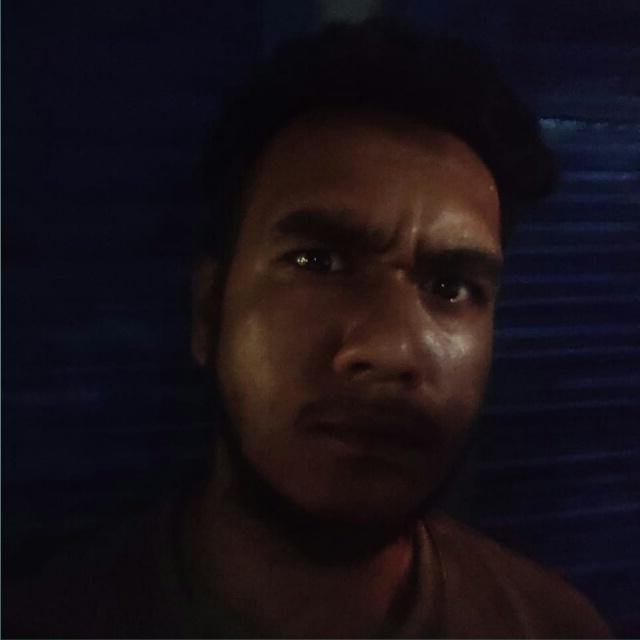Angry: (133, 63, 563, 586)
